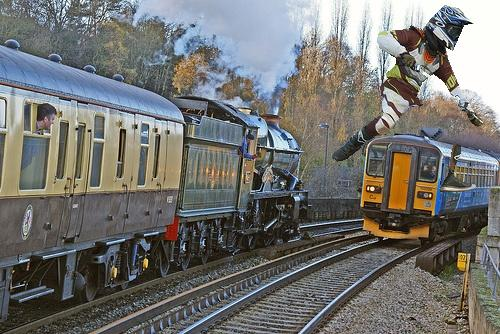tampered: (331, 6, 483, 192)
